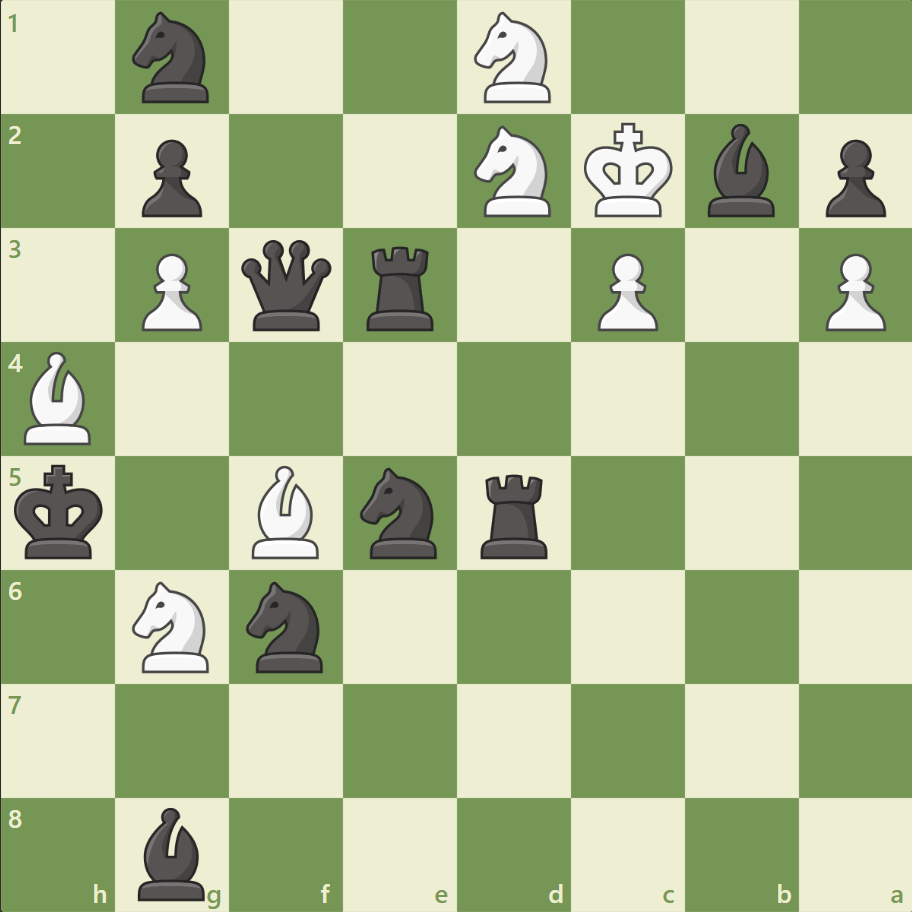B: (244, 460, 328, 563), (17, 347, 101, 449)
K: (579, 117, 679, 225)
N: (124, 575, 222, 677), (465, 7, 562, 110), (465, 121, 562, 223)
P: (133, 246, 208, 337), (815, 246, 889, 337), (588, 246, 662, 337)
b: (131, 801, 215, 904), (698, 120, 782, 222)
k: (11, 458, 111, 566)
n: (351, 461, 449, 564), (124, 7, 222, 110), (238, 575, 335, 677)
p: (133, 132, 208, 223), (815, 132, 889, 223)
q: (237, 236, 336, 335)
r: (473, 466, 556, 563), (360, 239, 442, 336)
